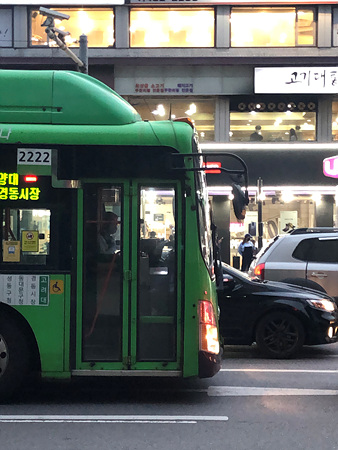entrance: (77, 177, 186, 377)
